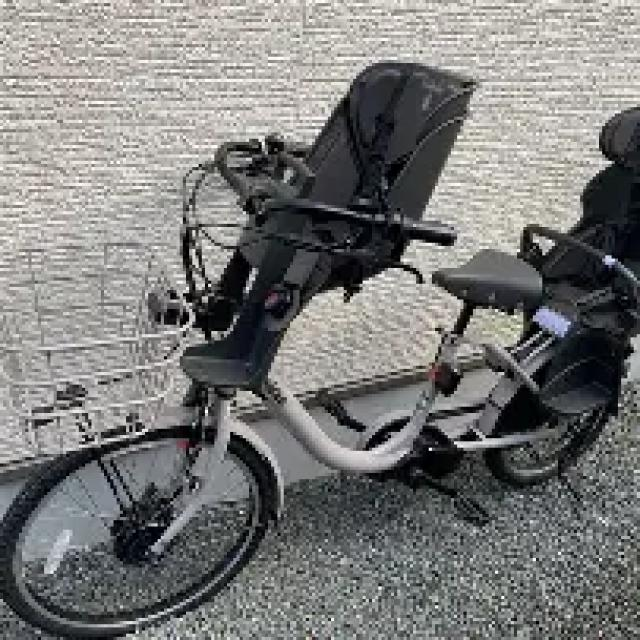basket: (0, 239, 188, 460)
childseat: (161, 61, 479, 391)
